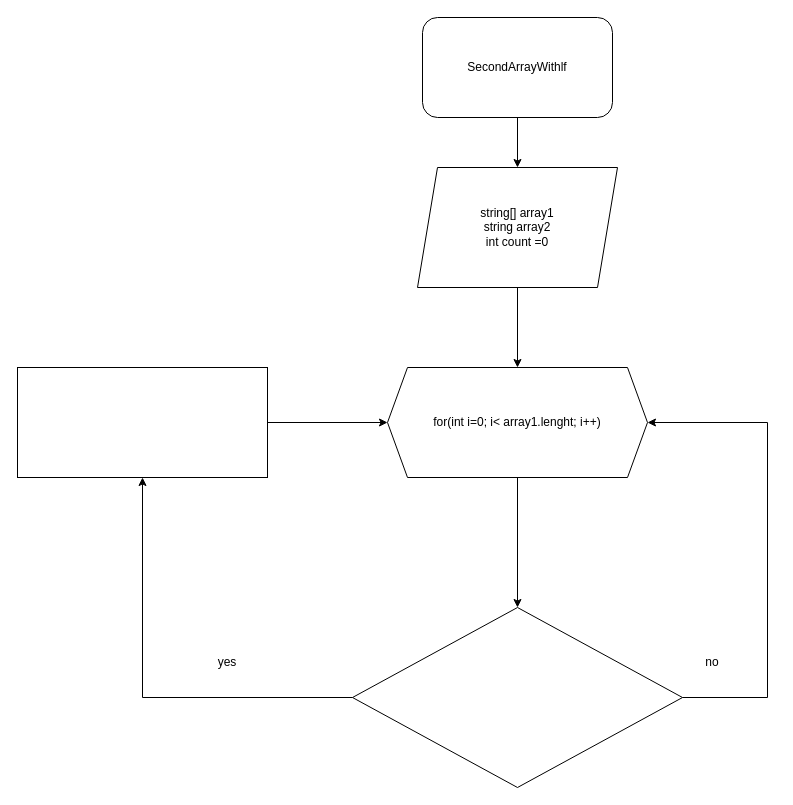
This 793x805 diagram has some shape labels left out. The shapes that lost their labels are listed below. From the top down, each one's centre as x and y in pixels, then its label:
At (x=142, y=422): "array2[count]= array1[i] count++".
At (x=517, y=697): "if (array1[i].lenght <=3)".
